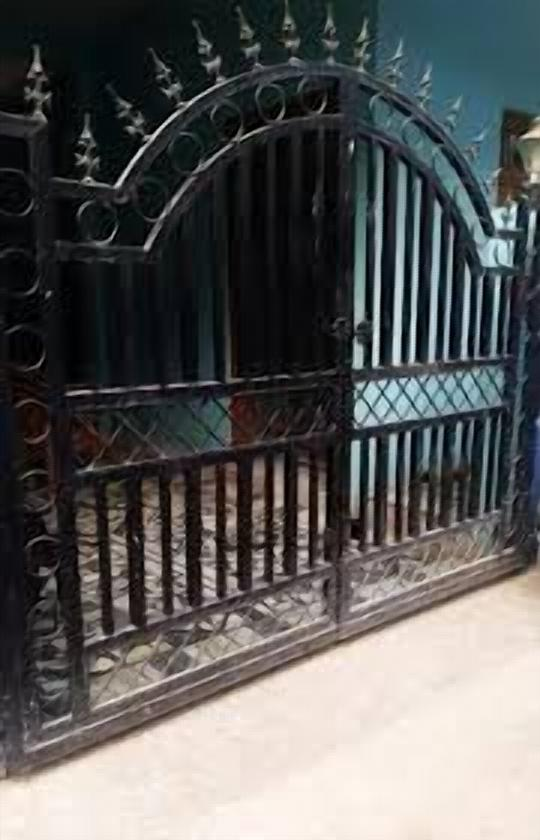Door: (224, 90, 351, 470)
Gate: (0, 0, 540, 780)
